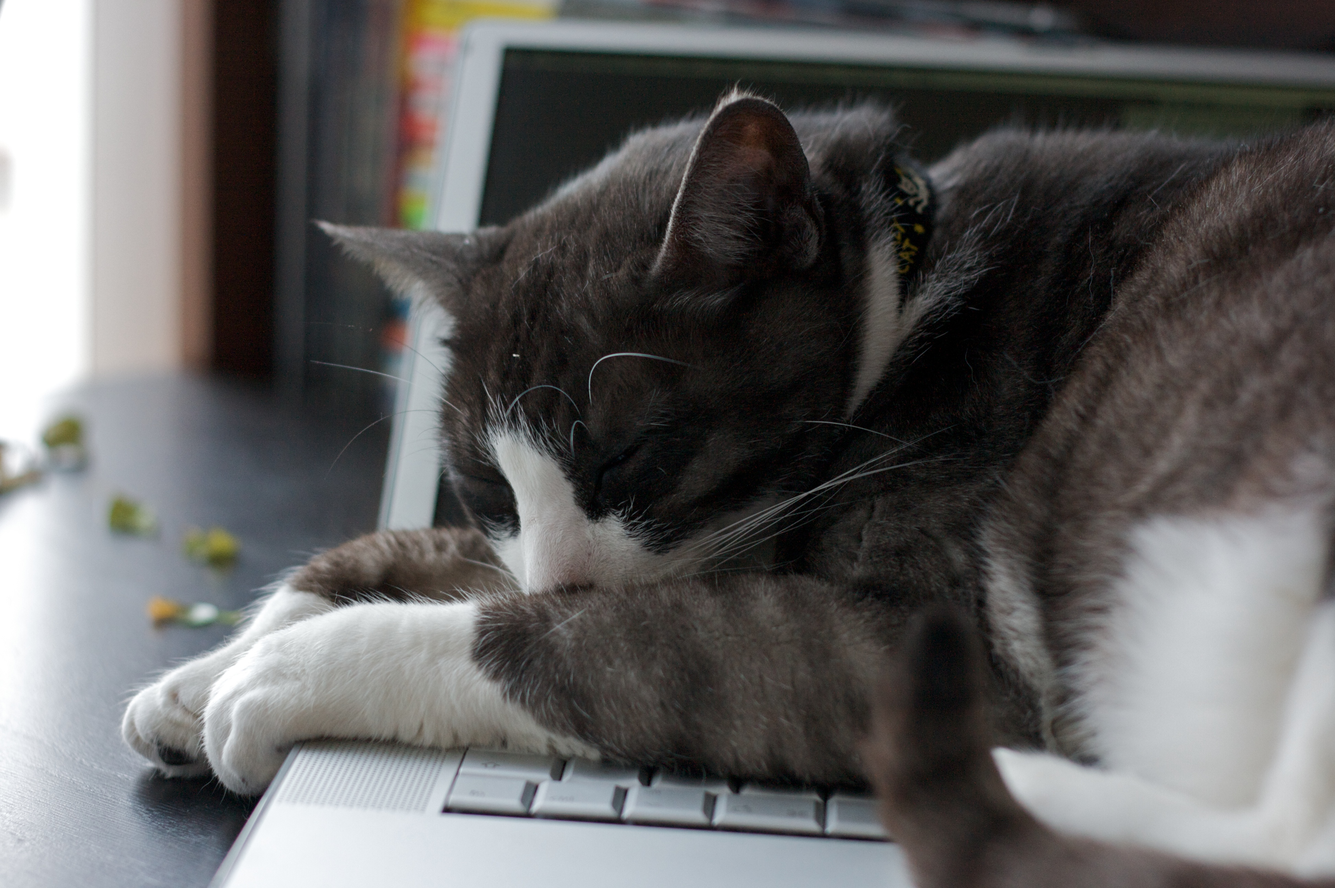cat: (109, 100, 1334, 887)
